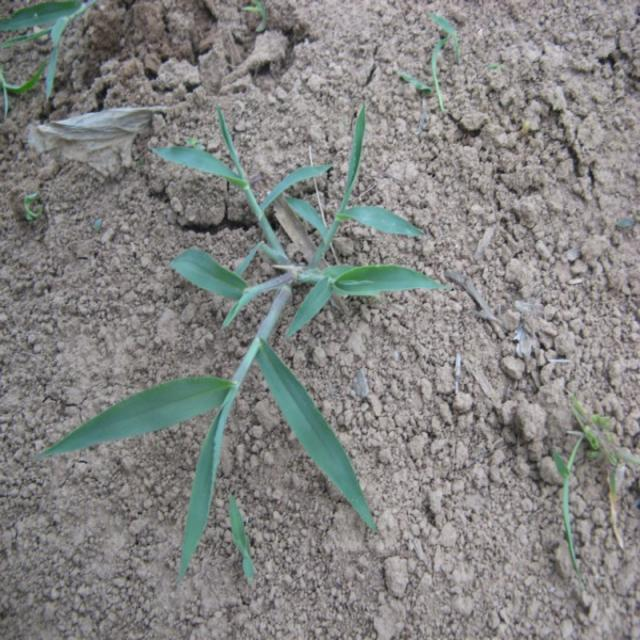bg: (50, 95, 444, 564)
